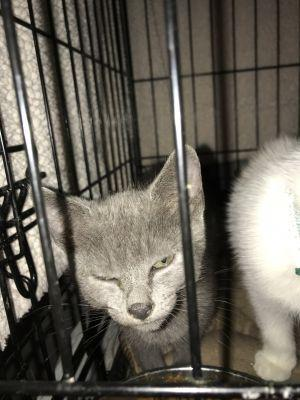rblue: (20, 132, 213, 347)
